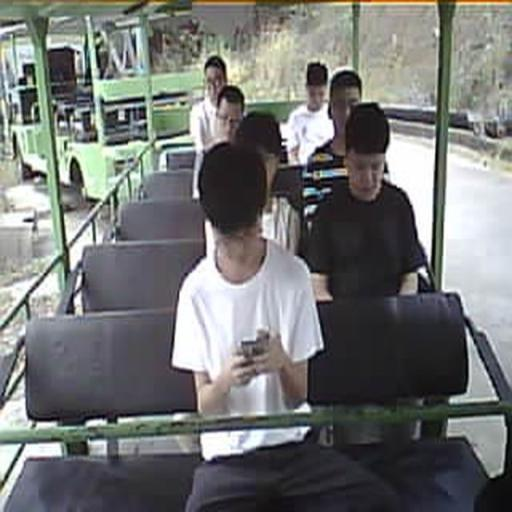persona: (170, 140, 400, 510), (304, 101, 434, 301), (204, 112, 302, 260), (308, 67, 390, 173), (196, 84, 246, 201), (189, 55, 229, 200), (284, 60, 335, 165)
